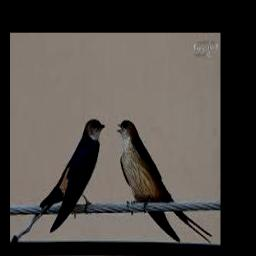Swallow: (117, 121, 213, 241), (17, 119, 105, 239)
